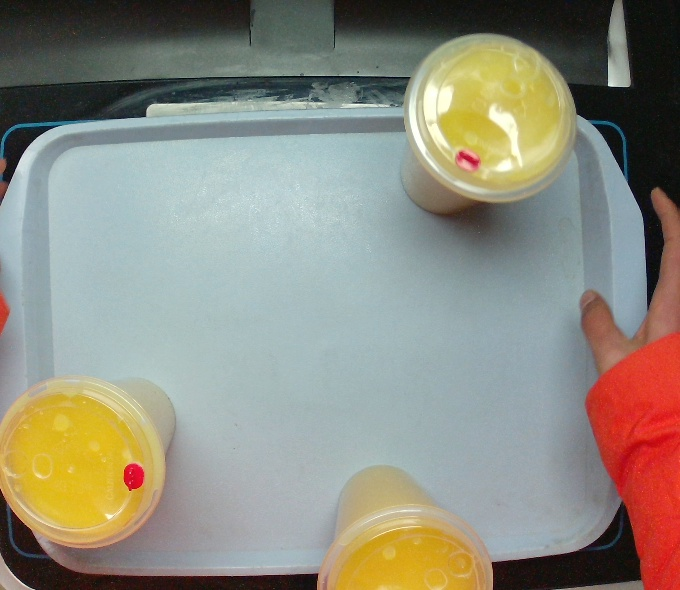wcq-ChengZhi: (396, 30, 580, 219), (1, 371, 179, 550), (315, 461, 495, 590)
